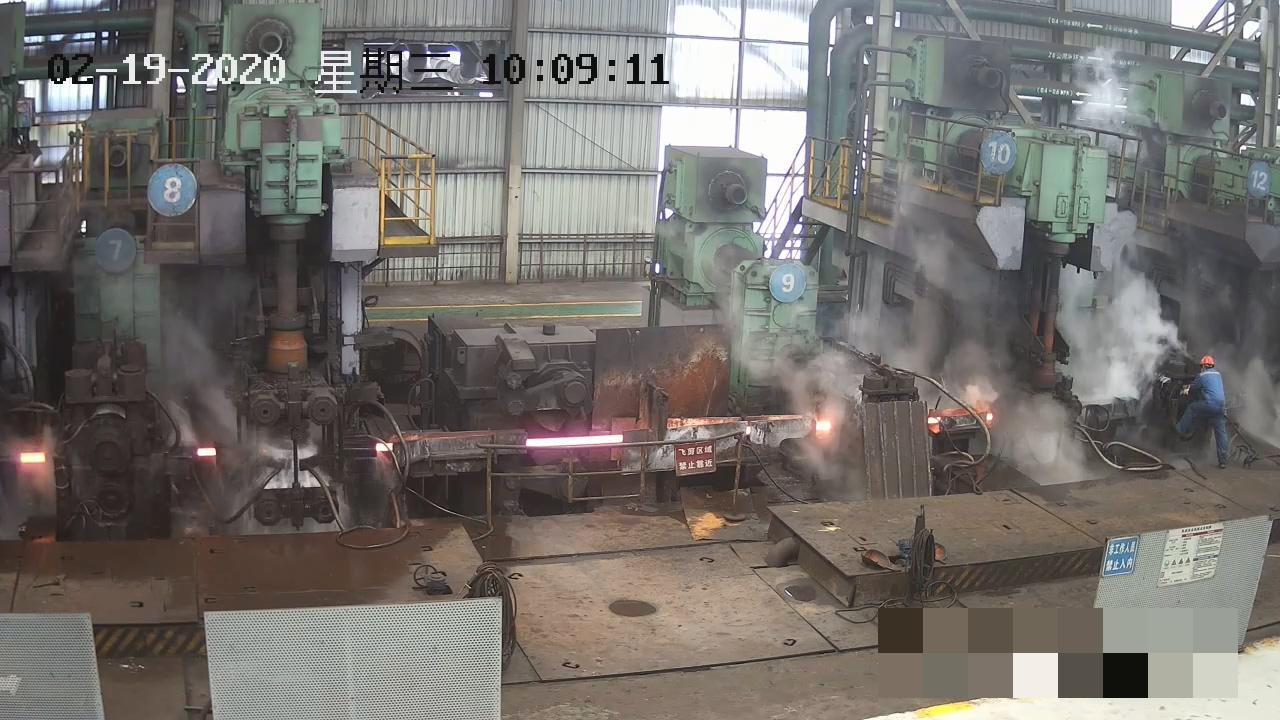hat: (1199, 354, 1214, 371)
person: (1173, 352, 1232, 471)
